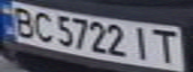2: (106, 20, 130, 58), (87, 18, 109, 55)
5: (51, 12, 75, 47)
7: (69, 16, 90, 51)
B: (6, 3, 39, 38)
C: (30, 10, 57, 43)
I: (127, 25, 157, 62)
T: (148, 26, 184, 65)
